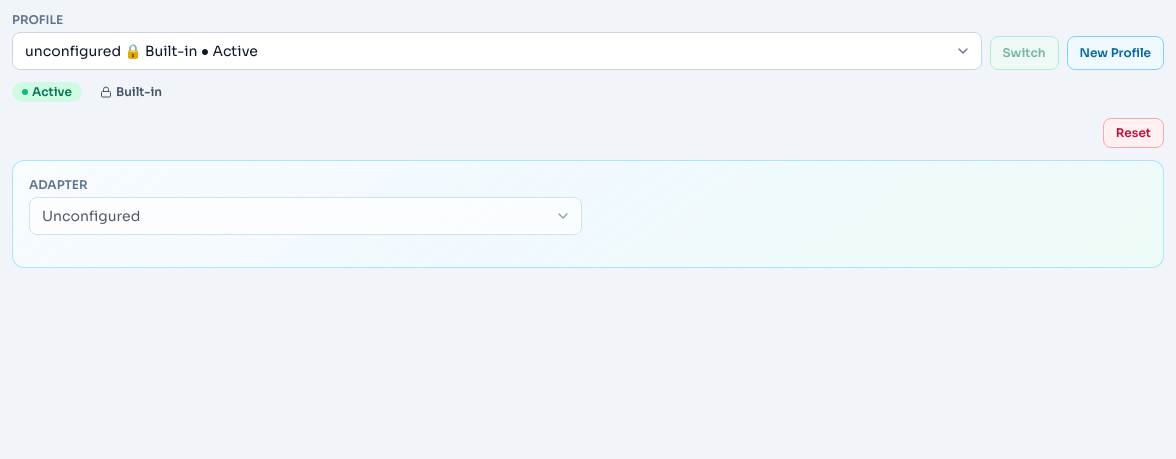
Test case: PlatformConfigSection with ProfileSelector › shows Edit button for non-builtin active profile after switch
Select "my-custom_rest" in the dropdown with test id "profile-dropdown" at (497,51), box [12,32,982,70]
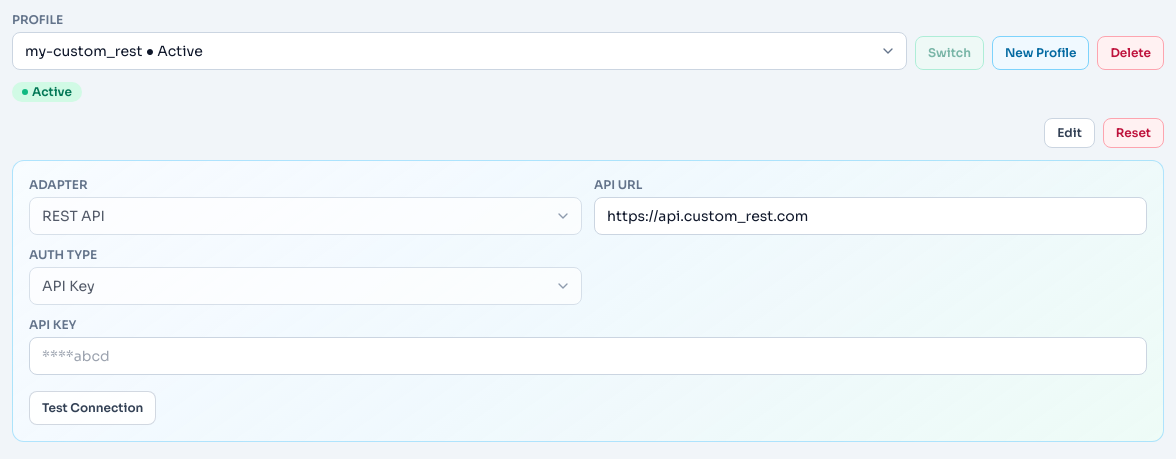
Expected: the button "Edit" is shown, [1044,118,1095,148]
